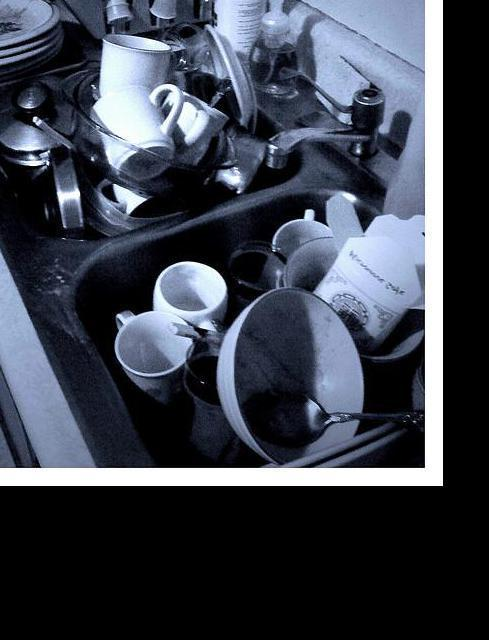Lavaplatos: (0, 22, 428, 466)
